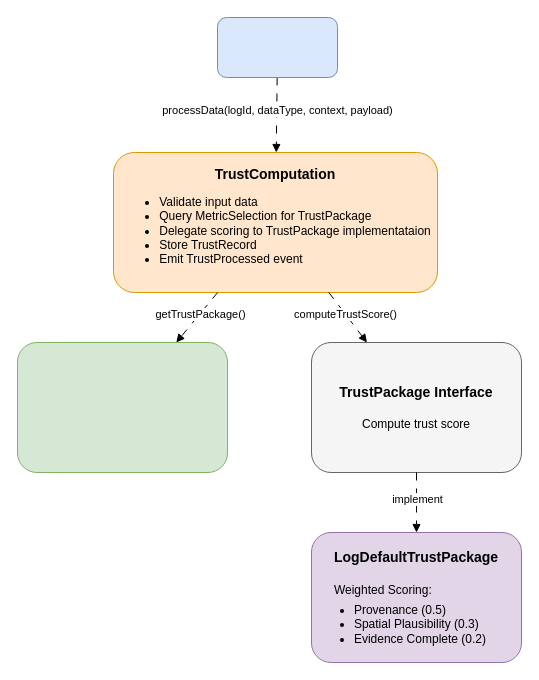
This 539x680 diagram has some shape labels left out. Each missing label, with the centre of its shape:
"External Caller" belongs at point 277,47.
"TrustComputation TrustPackage registration & Get TrustPackage" belongs at point 122,407.
